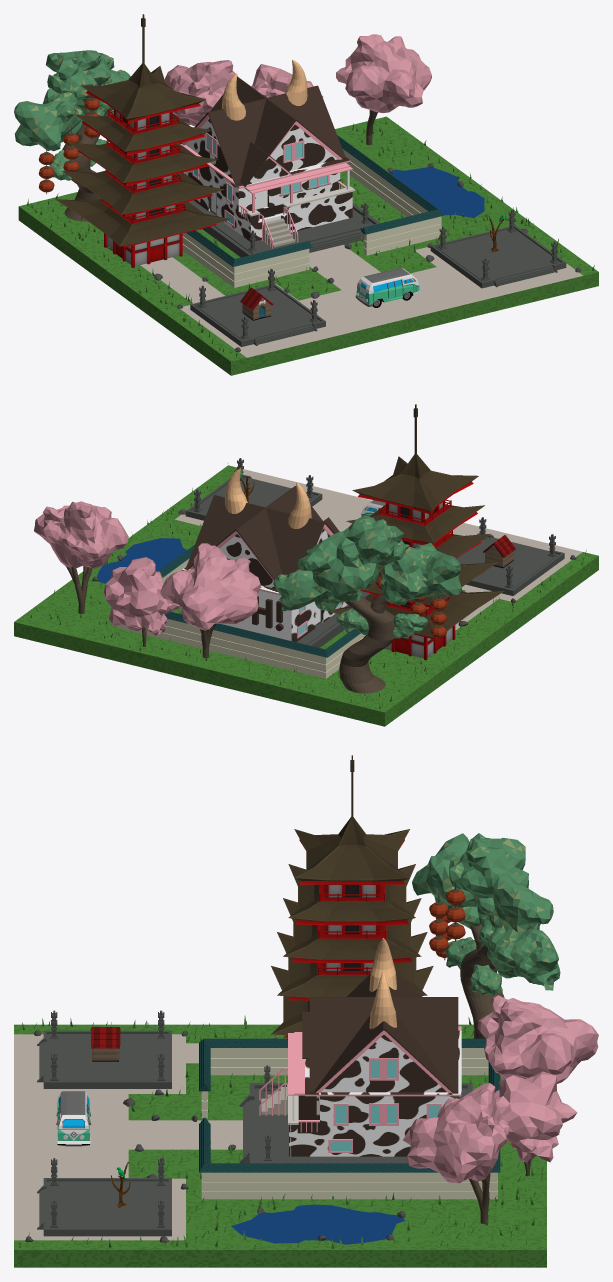
The picture shows the model from 3 angles, top to bottom: view 1: azimuth 30°, elevation 25°; view 2: azimuth 150°, elevation 25°; view 3: azimuth 270°, elevation 25°; orthographic projection. The views are drawn at different scales.
Visible parts, largest first — view 1: Cube.005, Cube.1242, VEHICLES_VAN, OBJRANDOM_DOGHOUSE; view 2: Cube.005, Cube.1242, OBJRANDOM_DOGHOUSE; view 3: Cube.005, Cube.1242, VEHICLES_VAN, OBJRANDOM_DOGHOUSE.
Part boxes in pixels (x1,y1,x2,y2): Cube.005: (14,14,598,375); Cube.1242: (179,59,355,248); VEHICLES_VAN: (355,268,420,307); OBJRANDOM_DOGHOUSE: (240,287,273,320); Cube.005: (14,404,598,726); Cube.1242: (181,468,347,642); OBJRANDOM_DOGHOUSE: (483,535,515,568); Cube.005: (14,755,598,1267); Cube.1242: (259,938,461,1156); VEHICLES_VAN: (56,1091,91,1146); OBJRANDOM_DOGHOUSE: (90,1027,120,1061).
Bounding box in the file's own units: 4528 × 2698 × 4389.
Materials: 49 (5 with a texture image).
